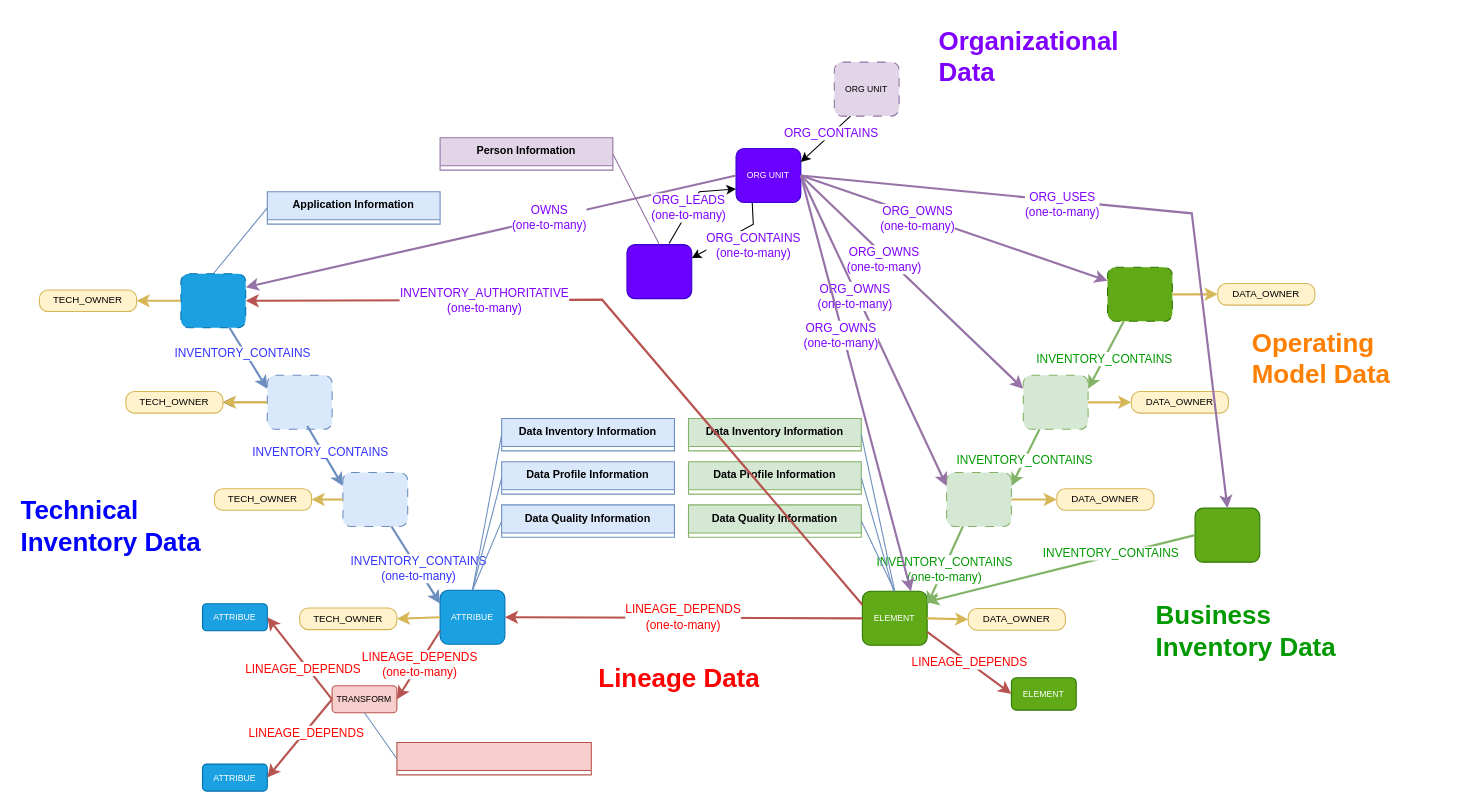
This 1462x810 diagram has some shape labels left out. The centre of each missing label's shape, as x and y in pixels:
"APPLICATION" goes at point 213,300.
"CLASS" goes at point 1055,401.
"DATA PRODUCT" goes at point 1227,534.
"Data Transform Information" goes at point 493,758.
"DOMAIN" goes at point 1139,293.
"PERSON" goes at point 659,271.
"SCHEMA" goes at point 299,401.
"SUBCLASS" goes at point 978,498.
"TABLE" goes at point 375,498.
